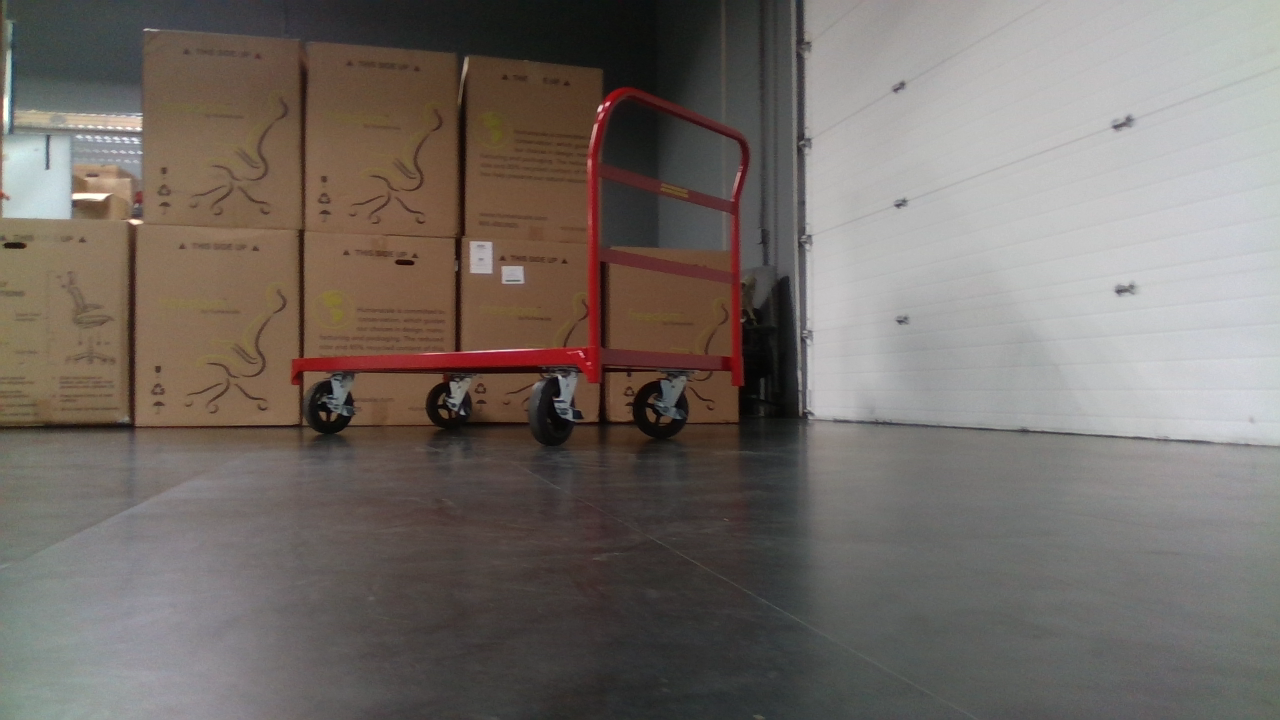Dolly: (284, 86, 758, 439)
Wheel: (524, 374, 583, 440), (634, 375, 692, 438), (305, 374, 360, 433), (425, 374, 473, 431)
